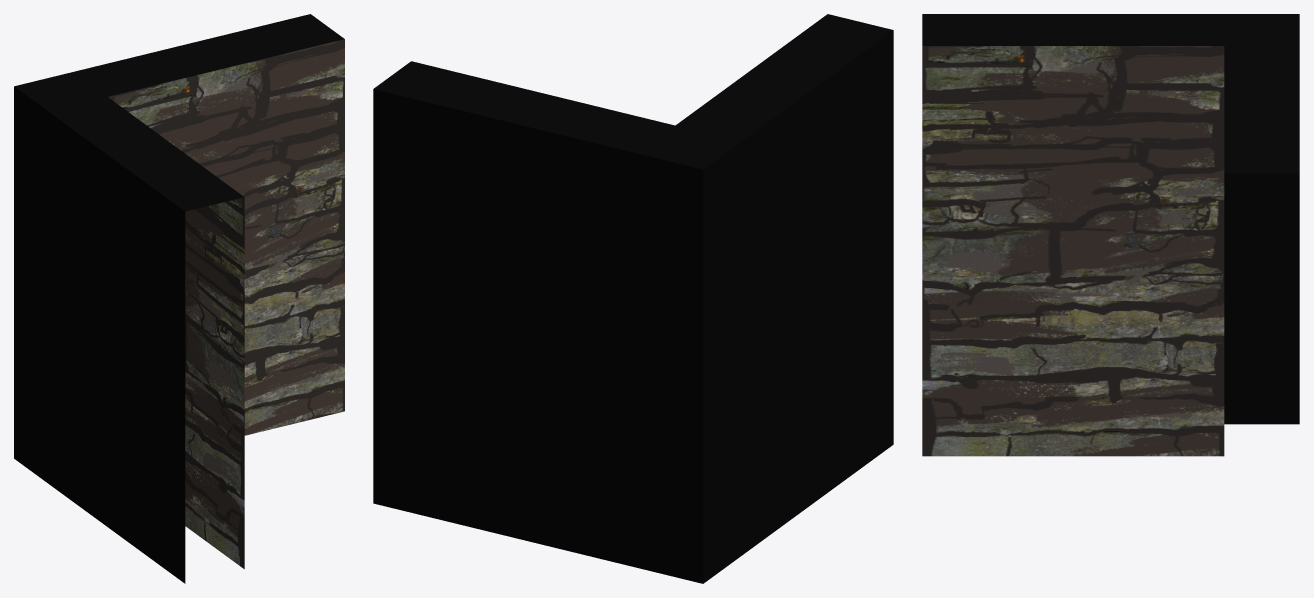
The model's file is room_ecke_aussen_a.fbx.
The picture shows the model from 3 angles, left to right: view 1: azimuth 30°, elevation 25°; view 2: azimuth 150°, elevation 25°; view 3: azimuth 270°, elevation 25°; orthographic projection. The views are drawn at different scales.
Visible parts, largest first — view 1: ecke_aussen; view 2: ecke_aussen; view 3: ecke_aussen.
Boxes of the visible parts, box(x1,y1,x2,y2) form: ecke_aussen: box(14, 14, 344, 583); ecke_aussen: box(373, 14, 893, 583); ecke_aussen: box(922, 14, 1299, 456).
Size of the model in its own units: 125 by 150 by 125.
Materials: 2 (2 with a texture image).
